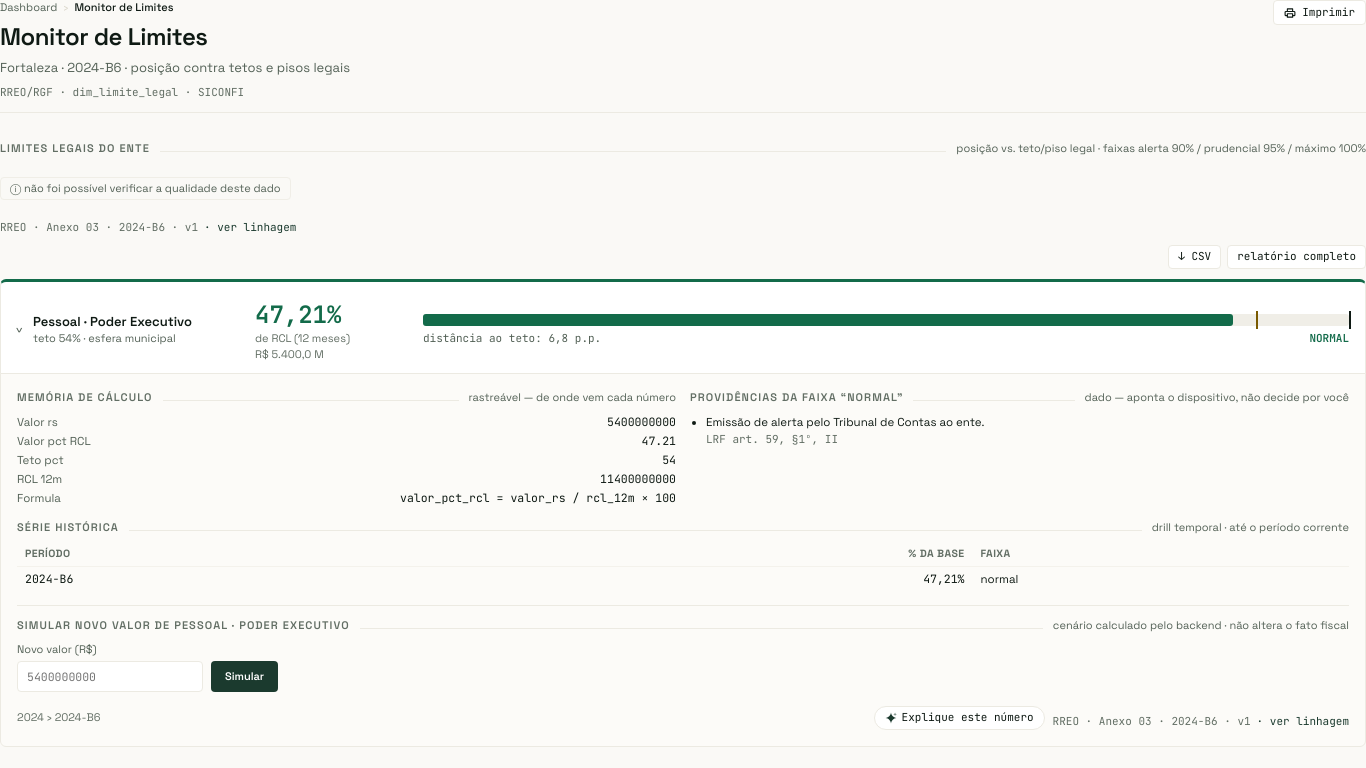
it: Painel expansível de Limites (Sprint D1) › simula um novo valor sem persistir (POST .../simular)
Expected: the text "Fortaleza · 2024-B6 · posição contra tetos e pisos legais" is shown, [0,59,350,76]
Expected: the element named "Detalhe de Pessoal · Poder Executivo" is shown, [0,379,1365,747]
Type "6200000000" into the field labelled "Novo valor (R$)" at [110, 676], box [17,661,203,692]
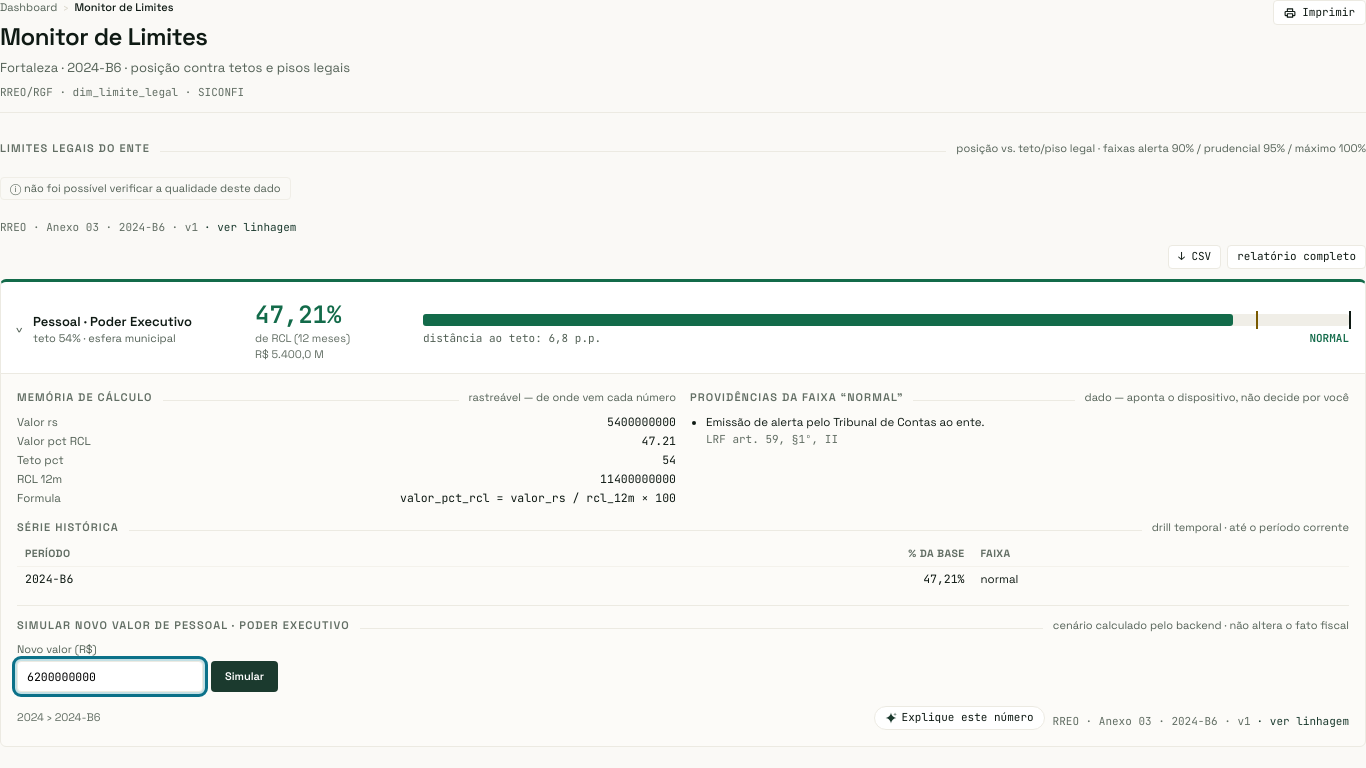
Click the button "Simular" at [245, 676], box [211,660,278,692]
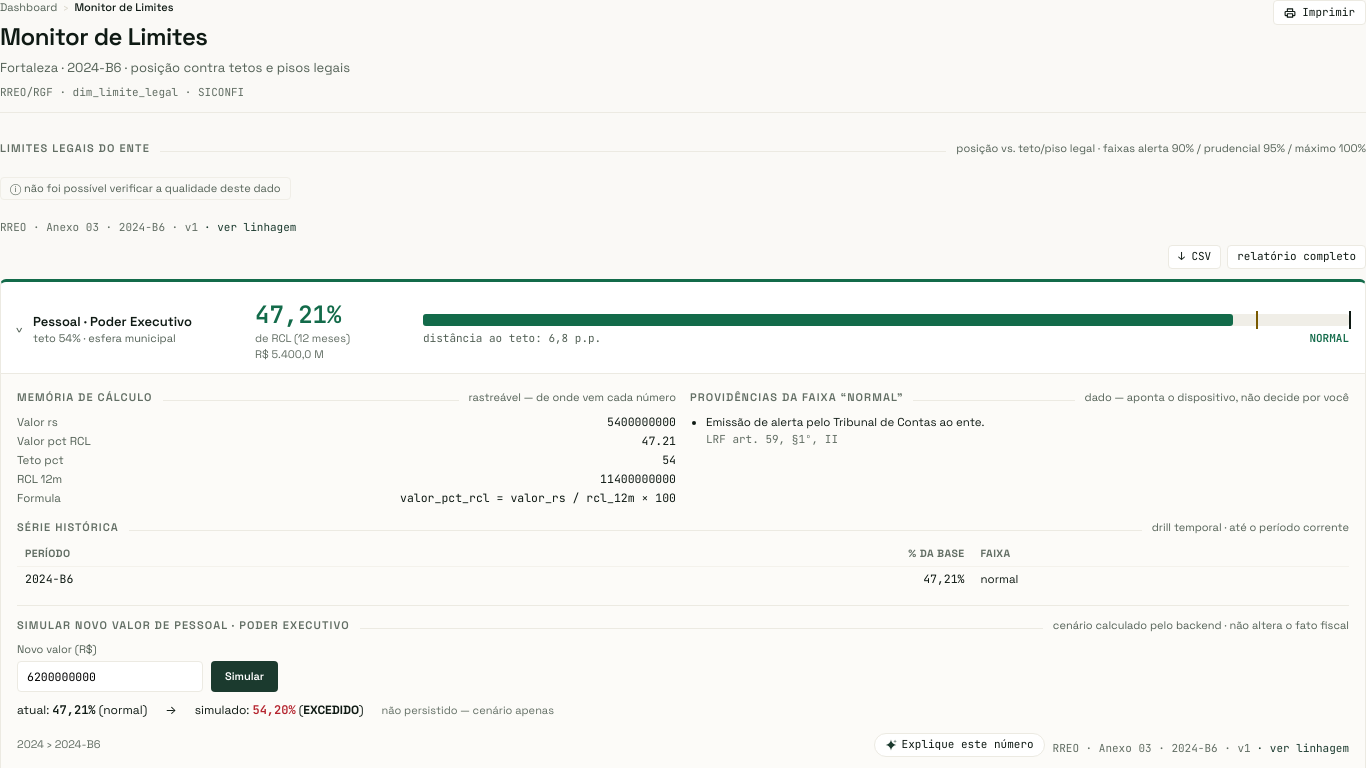
Expected: the text "não persistido — cenário apenas" is shown, [382,703,554,718]
Expected: the text "excedido" is shown, [303,702,359,718]
